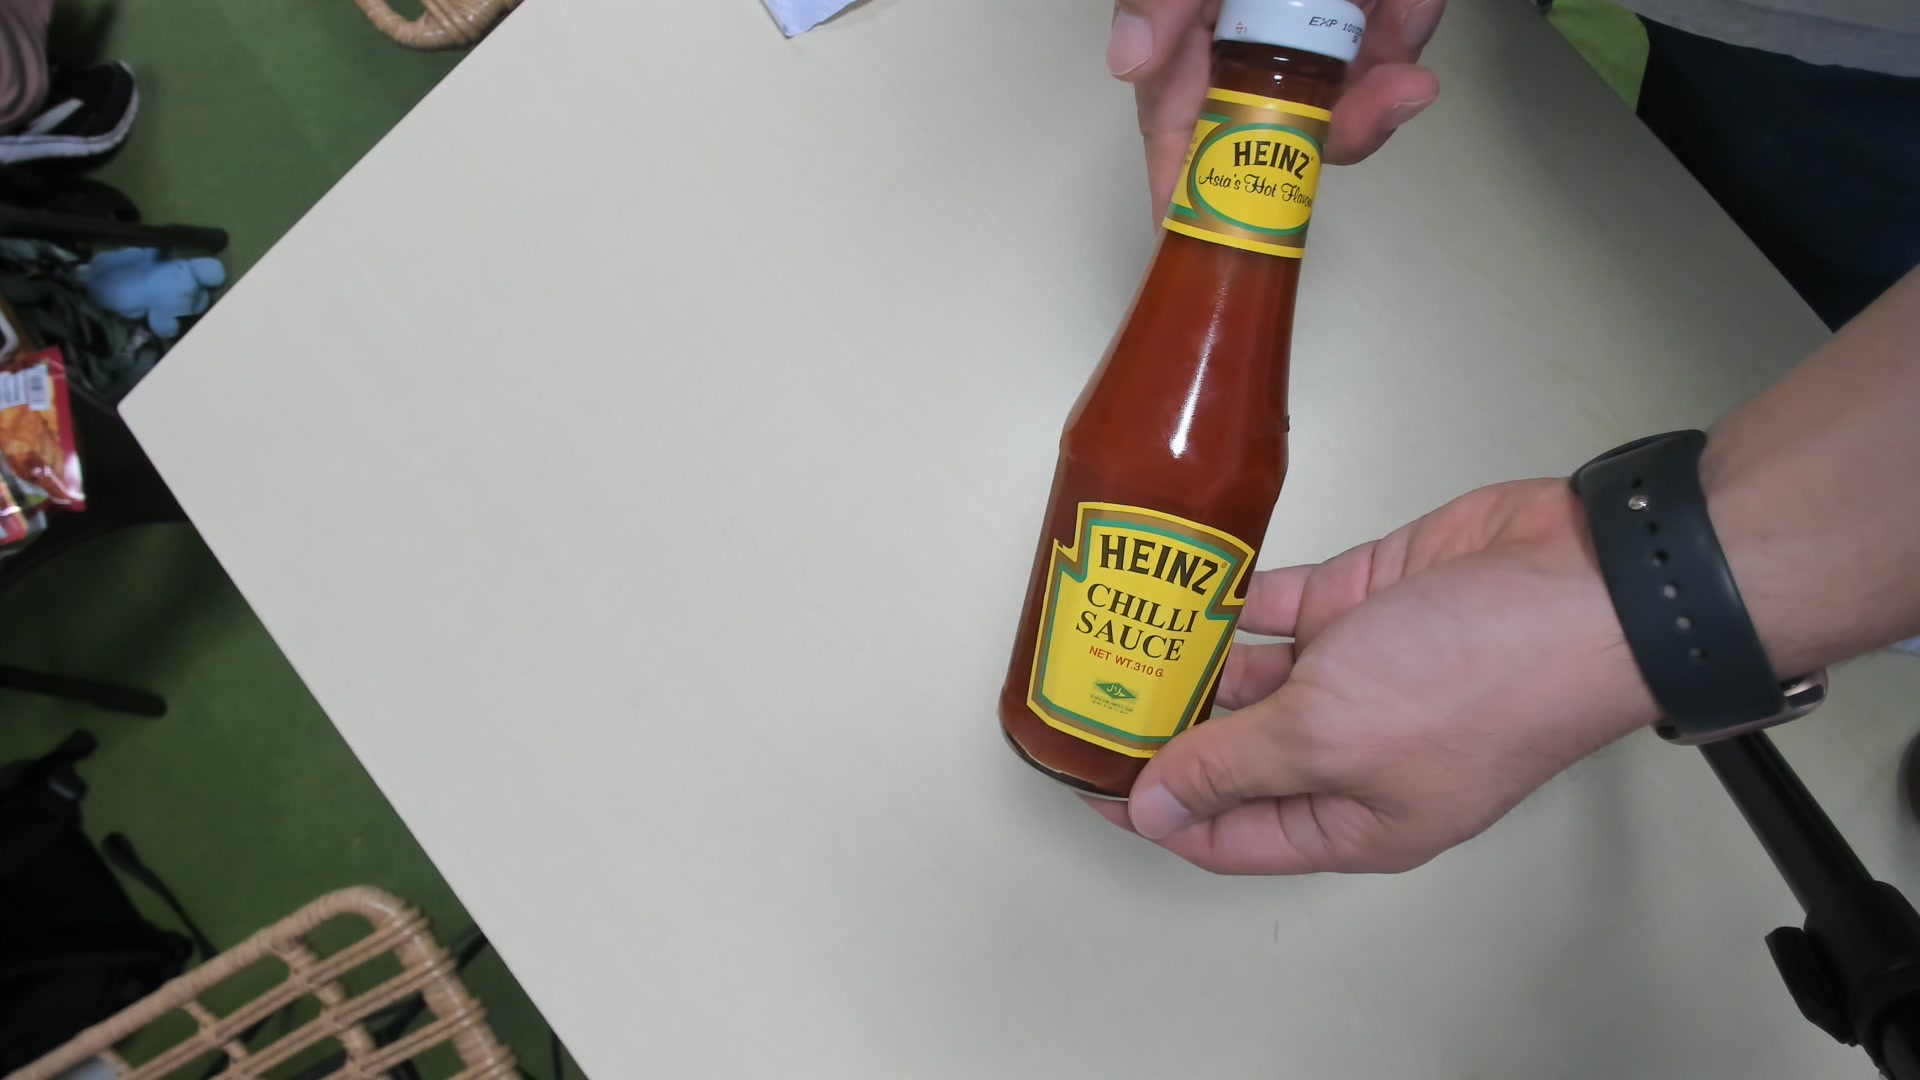KetchupChillSauce_300-399g_Halal_NonHealthy: (998, 1, 1360, 803)
